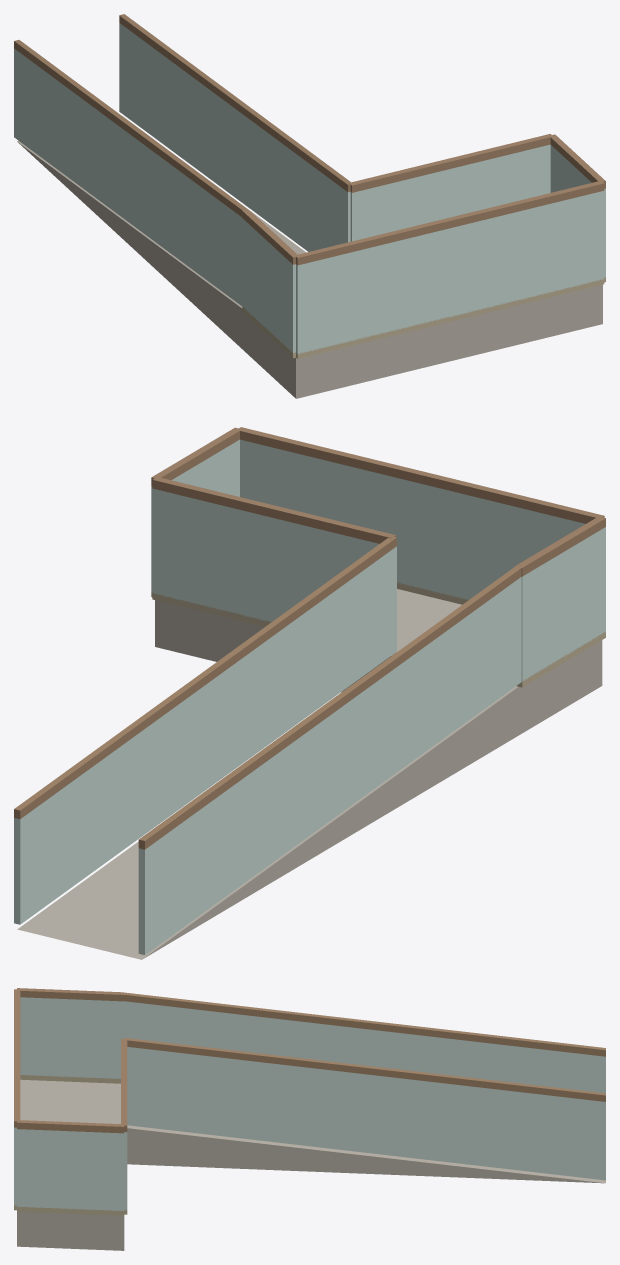
Rendered from CONVERSATION_797_r001.glb.
The picture shows the model from 3 angles, top to bottom: view 1: azimuth 30°, elevation 25°; view 2: azimuth 150°, elevation 25°; view 3: azimuth 270°, elevation 25°; orthographic projection. The views are drawn at different scales.
Parts seen in each view (by area): view 1: G2R_797_Fore_Infill, G2R_797_ConversationOverlook, G2R_797_RearClosed_Infill, G2R_797_ContinuousRearRamp, G2R_797_Inner_Infill, G2R_797_Fore_Handrail, G2R_797_RearClosed_Handrail, G2R_797_Fore_Foot, G2R_797_Ramp_L_guard_9, G2R_797_Ramp_R_guard_3, G2R_797_Ramp_R_guard_6, G2R_797_Ramp_L_guard_1 (+23 smaller); view 2: G2R_797_Fore_Infill, G2R_797_RearClosed_Infill, G2R_797_ContinuousRearRamp, G2R_797_ConversationOverlook, G2R_797_Inner_Infill, G2R_797_Fore_Handrail, G2R_797_Ramp_L_guard_11, G2R_797_Ramp_R_guard_11, G2R_797_Ramp_L_guard_6, G2R_797_Ramp_L_guard_9, G2R_797_Ramp_R_guard_1, G2R_797_Ramp_R_guard_3 (+23 smaller); view 3: G2R_797_ContinuousRearRamp, G2R_797_Outer_Infill, G2R_797_Inner_Infill, G2R_797_ConversationOverlook, G2R_797_Ramp_R_guard_2, G2R_797_Ramp_R_guard_3, G2R_797_Ramp_R_guard_8, G2R_797_Ramp_R_guard_9, G2R_797_Ramp_R_guard_1, G2R_797_Ramp_R_guard_4, G2R_797_Ramp_R_guard_6, G2R_797_Ramp_R_guard_10 (+46 smaller).
Part boxes in pixels (box(x1,y1,x2,y2)): G2R_797_Fore_Infill: box(296, 191, 604, 354); G2R_797_ConversationOverlook: box(245, 284, 602, 398); G2R_797_RearClosed_Infill: box(350, 144, 550, 241); G2R_797_ContinuousRearRamp: box(17, 123, 305, 351); G2R_797_Inner_Infill: box(242, 218, 295, 353); G2R_797_Fore_Handrail: box(295, 181, 604, 265); G2R_797_RearClosed_Handrail: box(349, 134, 551, 192); G2R_797_Fore_Foot: box(296, 279, 604, 358); G2R_797_Ramp_L_guard_9: box(52, 77, 71, 179); G2R_797_Ramp_R_guard_3: box(271, 136, 290, 238); G2R_797_Ramp_R_guard_6: box(214, 93, 233, 195); G2R_797_Ramp_L_guard_1: box(204, 190, 223, 292); G2R_797_Fore_Infill: box(240, 439, 585, 599); G2R_797_RearClosed_Infill: box(152, 488, 378, 622); G2R_797_ContinuousRearRamp: box(17, 686, 518, 959); G2R_797_ConversationOverlook: box(155, 589, 602, 735); G2R_797_Inner_Infill: box(521, 527, 605, 681); G2R_797_Fore_Handrail: box(237, 427, 604, 523); G2R_797_Ramp_L_guard_11: box(138, 827, 176, 954); G2R_797_Ramp_R_guard_11: box(14, 797, 51, 924); G2R_797_Ramp_L_guard_6: box(302, 713, 333, 840); G2R_797_Ramp_L_guard_9: box(207, 782, 238, 909); G2R_797_Ramp_R_guard_1: box(334, 569, 365, 696); G2R_797_Ramp_R_guard_3: box(271, 614, 302, 742); G2R_797_ContinuousRearRamp: box(127, 1125, 605, 1183); G2R_797_Outer_Infill: box(17, 1129, 124, 1210); G2R_797_Inner_Infill: box(20, 997, 124, 1078); G2R_797_ConversationOverlook: box(17, 1079, 124, 1250); G2R_797_Ramp_R_guard_2: box(204, 1055, 244, 1138); G2R_797_Ramp_R_guard_3: box(244, 1060, 284, 1143); G2R_797_Ramp_R_guard_8: box(445, 1083, 485, 1166); G2R_797_Ramp_R_guard_9: box(485, 1088, 525, 1170); G2R_797_Ramp_R_guard_1: box(164, 1051, 204, 1133); G2R_797_Ramp_R_guard_4: box(284, 1065, 324, 1147); G2R_797_Ramp_R_guard_6: box(365, 1074, 405, 1157); G2R_797_Ramp_R_guard_10: box(525, 1093, 565, 1175).
Bounding box in the file's own units: 3.68 × 1.55 × 6.63.
